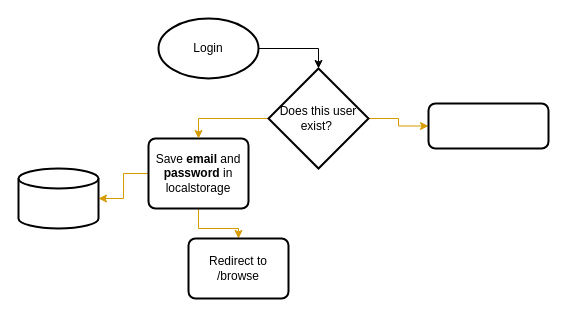
Some shapes in this 566 by 316 pixel diagram are drawn without their labels. Here are the shapes that lost their labels. From the top down, the centre of each, then its label:
[488,125]: show error tooltip
[58,198]: localstorage
